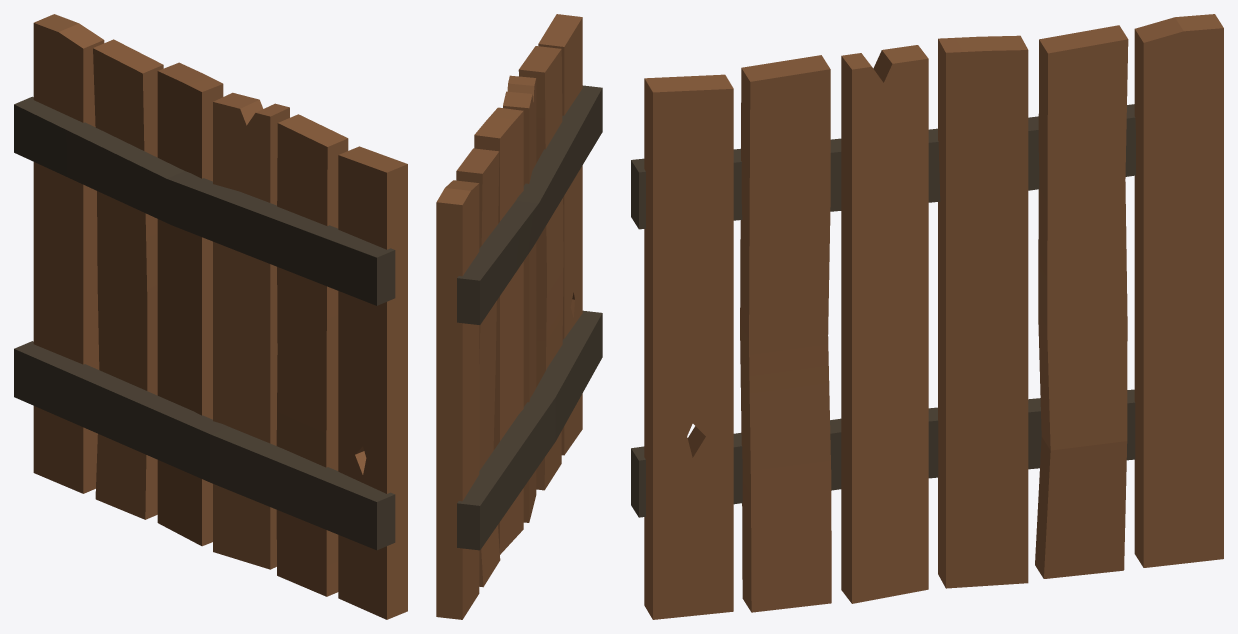
The model's file is Fence_Breakable_A (4).fbx.
The picture shows the model from 3 angles, left to right: view 1: azimuth 30°, elevation 25°; view 2: azimuth 150°, elevation 25°; view 3: azimuth 270°, elevation 25°; orthographic projection. The views are drawn at different scales.
Parts seen in each view (by area): view 1: Fence_Breakable_A (4); view 2: Fence_Breakable_A (4); view 3: Fence_Breakable_A (4).
Boxes of the visible parts, left/top/right/bottom form: Fence_Breakable_A (4): left=14, top=14, right=407, bottom=619; Fence_Breakable_A (4): left=436, top=14, right=602, bottom=619; Fence_Breakable_A (4): left=631, top=14, right=1223, bottom=619.
Bounding box in the file's own units: 1.57 × 4.4 × 4.41.
1 material, 1 textured.
